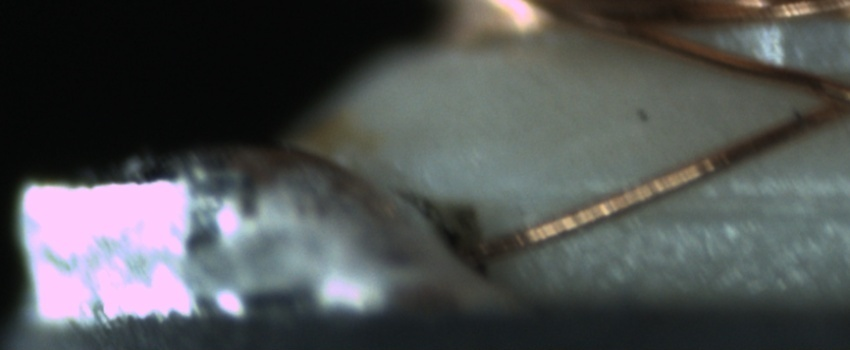DL: (554, 166, 850, 235)
